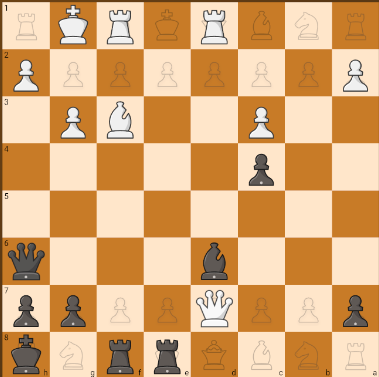bb: (193, 238, 235, 284)
bk: (6, 332, 47, 374)
bp: (3, 239, 46, 284), (4, 289, 45, 328), (53, 287, 90, 329), (338, 289, 373, 331), (245, 145, 279, 188)
br: (148, 335, 187, 376), (102, 335, 140, 377)
wb: (100, 96, 139, 140)
wk: (51, 1, 96, 47)
wp: (8, 51, 43, 95), (54, 102, 92, 139), (338, 52, 373, 92), (244, 105, 279, 139)
wq: (191, 287, 236, 330)
wr: (99, 4, 141, 47), (198, 3, 231, 47)
